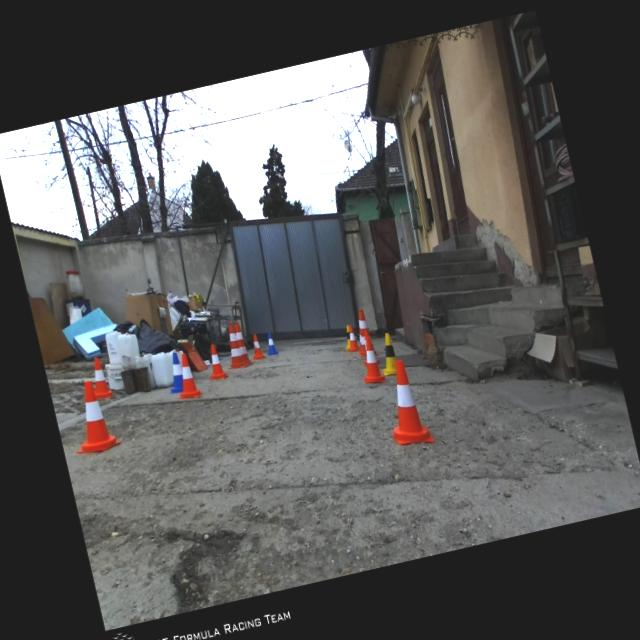blue_cone: (161, 350, 187, 394), (263, 331, 278, 355)
large_orange_cone: (218, 320, 248, 371), (349, 306, 377, 358), (233, 320, 252, 366)
orange_cone: (376, 355, 434, 450), (61, 376, 122, 456), (169, 350, 203, 400), (355, 335, 385, 386), (87, 356, 114, 400), (202, 341, 228, 381), (356, 326, 381, 366), (343, 324, 360, 352), (248, 332, 264, 359)
yellow_cone: (374, 331, 400, 377), (340, 324, 354, 349)
